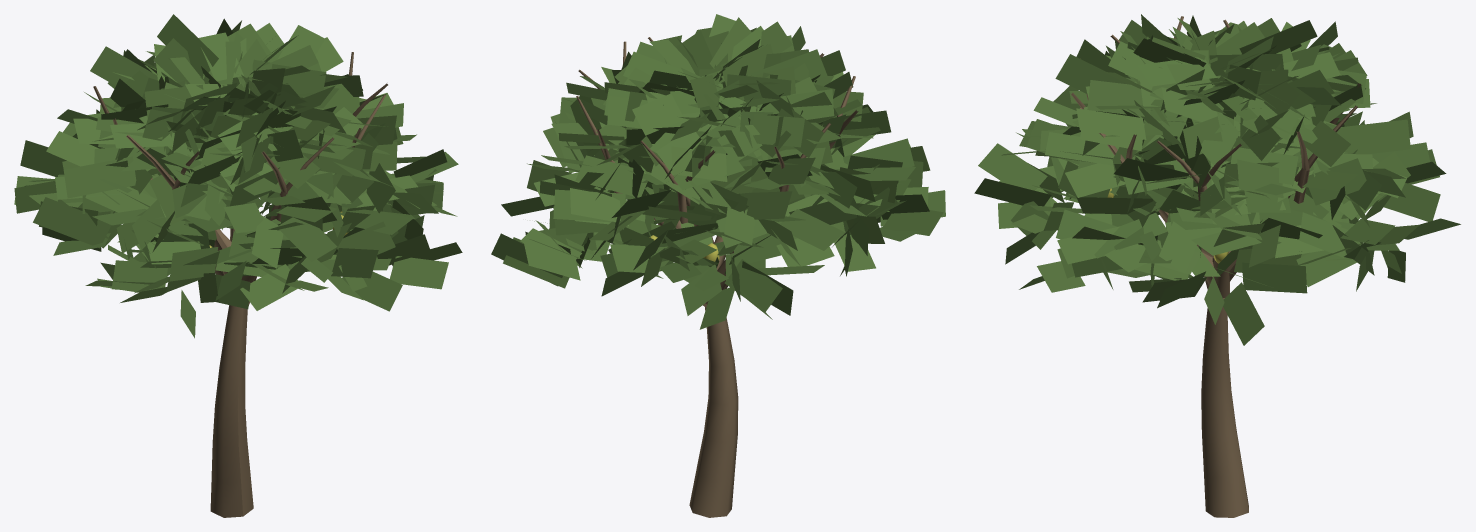
File: veg.mango.gltf
3 renders of one model, left to right at view 1: azimuth 30°, elevation 25°; view 2: azimuth 150°, elevation 25°; view 3: azimuth 270°, elevation 25°, orthographic. The views are drawn at different scales.
Parts seen in each view (by area): view 1: veg.mango/foliage_tropical#57763e, veg.mango/wood_teak#75634b; view 2: veg.mango/foliage_tropical#57763e, veg.mango/wood_teak#75634b; view 3: veg.mango/foliage_tropical#57763e, veg.mango/wood_teak#75634b.
Part boxes in pixels (<box>): veg.mango/foliage_tropical#57763e: <box>14,14,462,338</box>; veg.mango/wood_teak#75634b: <box>93,52,387,517</box>; veg.mango/foliage_tropical#57763e: <box>491,14,945,329</box>; veg.mango/wood_teak#75634b: <box>576,37,858,517</box>; veg.mango/foliage_tropical#57763e: <box>974,14,1460,345</box>; veg.mango/wood_teak#75634b: <box>1070,16,1360,517</box>.
Bounding box in the file's own units: 6.19 × 7.27 × 6.65.
